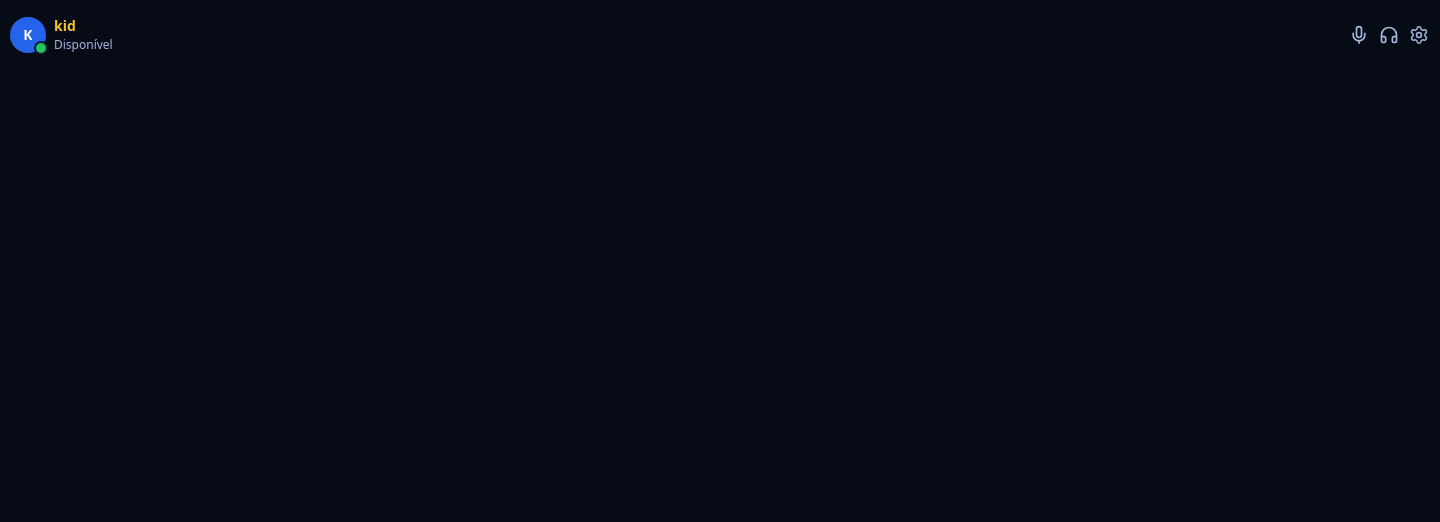
it: o menu de status › escolher Ocupado vale na hora: o texto fica vermelho e a bolinha muda
Click the button with aria-label "Seu status" at (28, 34), box [6,12,1340,57]
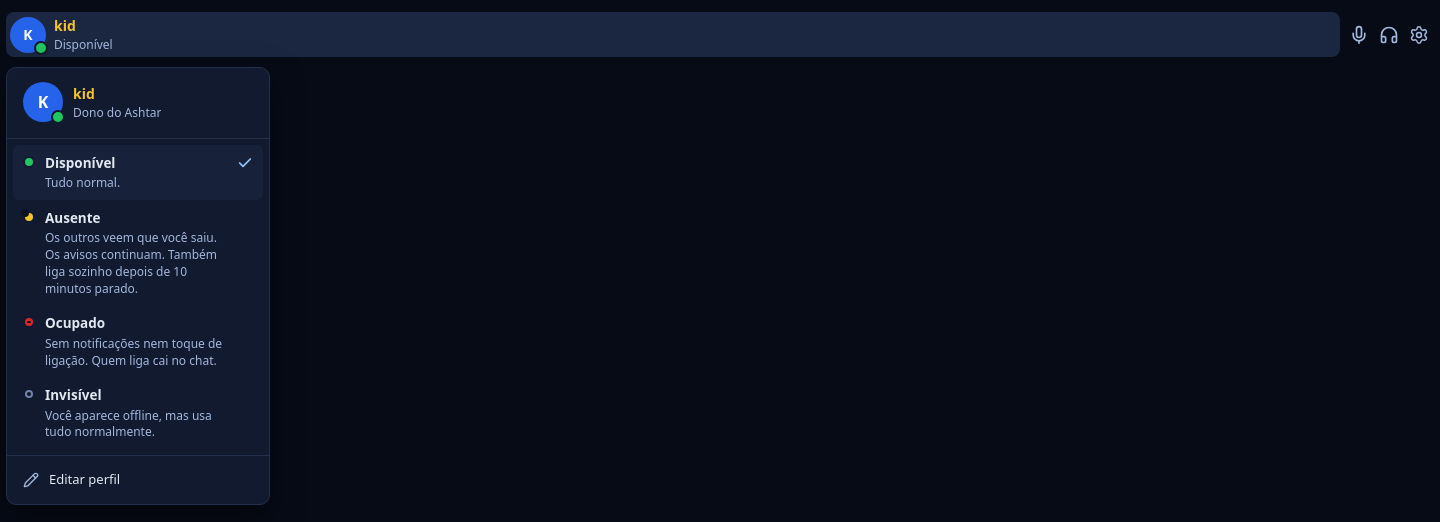
Click the menu item "Ocupado" at (123, 342), box [23,314,222,368]
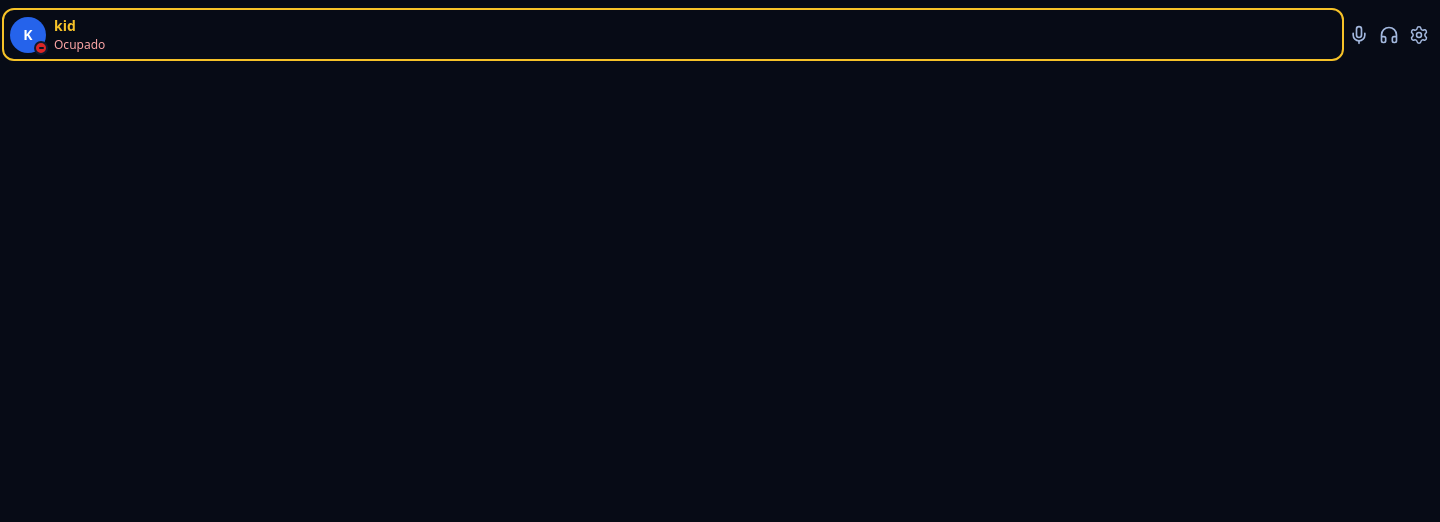
Expected: the text "Ocupado" has class "text-destructive-text", [54,36,105,53]
Expected: the text "Ocupado" has attribute title="Notificações e toque de ligação desligados", [54,36,105,53]
